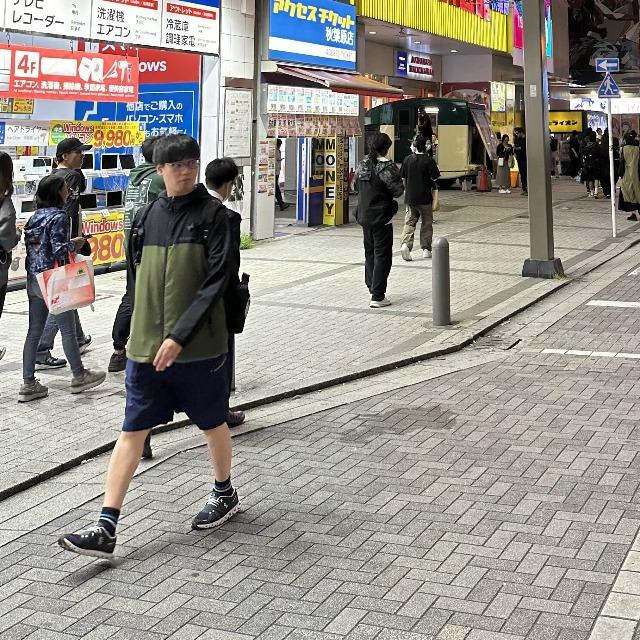NoHelmet: (151, 134, 204, 196)
NoVest: (127, 198, 233, 362)
